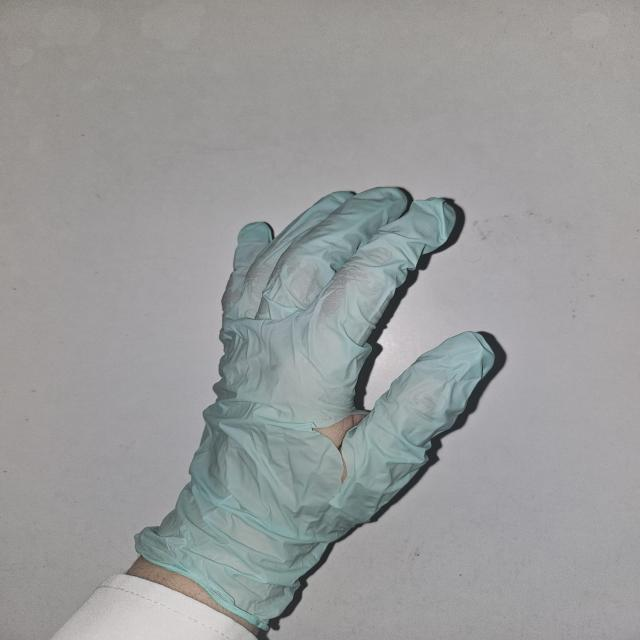gloves_damaged: (127, 182, 510, 631)
